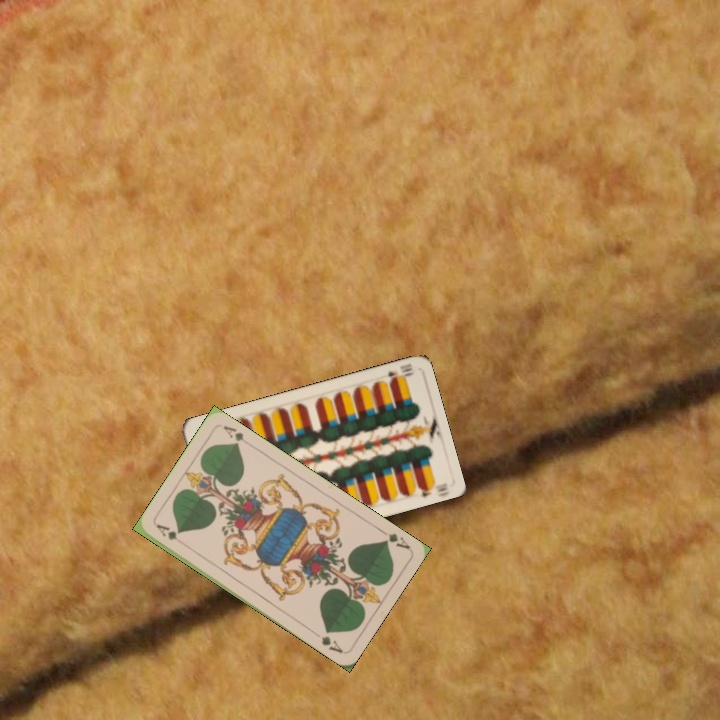E10: (384, 359, 416, 386)
GA: (375, 525, 413, 552), (153, 520, 188, 548)
